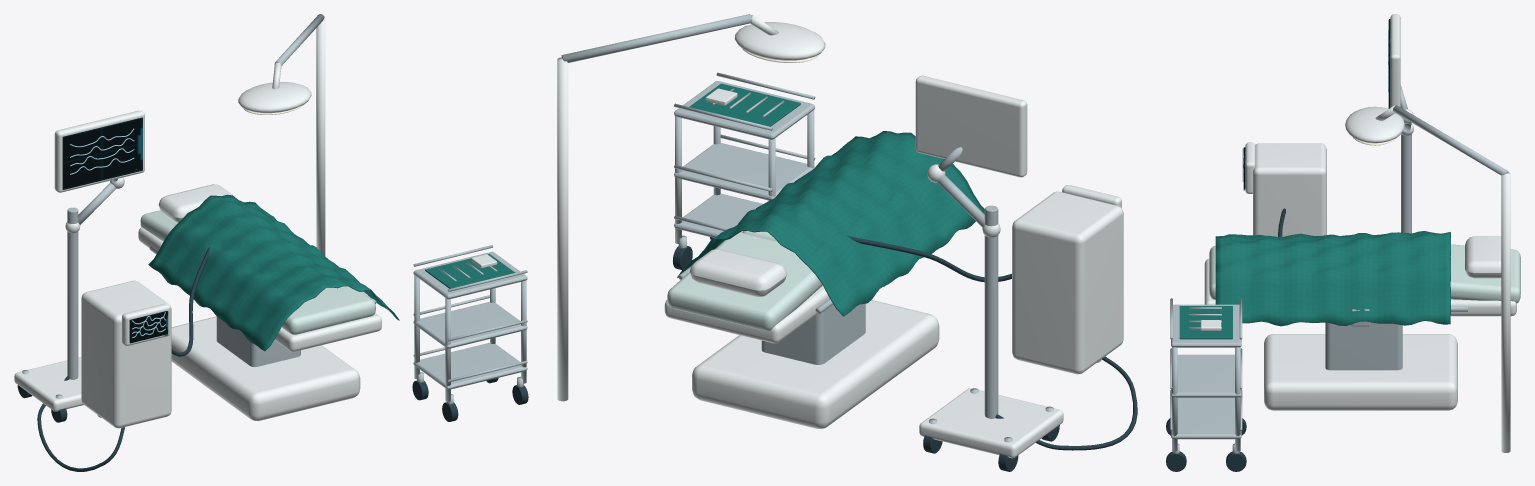
File: care.glb
3 views of the same model, side by side, from view 1: azimuth 30°, elevation 25°; view 2: azimuth 150°, elevation 25°; view 3: azimuth 270°, elevation 25° (orthographic). The views are drawn at different scales.
Parts seen in each view (by area): view 1: care__Powder coat • warm porcelain, care__Matte woven drape, care__Brushed aluminium, care__Diagnostic glass • fictional, care__Linen upholstery, care__Rubber and screen bezel, care__Pale blue polymer; view 2: care__Powder coat • warm porcelain, care__Matte woven drape, care__Brushed aluminium, care__Linen upholstery, care__Rubber and screen bezel; view 3: care__Powder coat • warm porcelain, care__Matte woven drape, care__Brushed aluminium, care__Linen upholstery, care__Rubber and screen bezel, care__Diagnostic glass • fictional.
Part boxes in pixels (box(x1,y1,x2,y2)): care__Powder coat • warm porcelain: box(14, 16, 497, 428); care__Matte woven drape: box(135, 169, 515, 351); care__Brushed aluminium: box(22, 14, 527, 404); care__Diagnostic glass • fictional: box(62, 117, 168, 343); care__Linen upholstery: box(140, 210, 375, 334); care__Rubber and screen bezel: box(17, 247, 528, 471); care__Pale blue polymer: box(70, 128, 165, 417); care__Powder coat • warm porcelain: box(557, 15, 1123, 458); care__Matte woven drape: box(677, 83, 984, 316); care__Brushed aluminium: box(561, 14, 1053, 442); care__Linen upholstery: box(667, 230, 822, 330); care__Rubber and screen bezel: box(673, 236, 1137, 471); care__Powder coat • warm porcelain: box(1200, 14, 1516, 452); care__Matte woven drape: box(1179, 189, 1450, 339); care__Brushed aluminium: box(1170, 85, 1508, 453); care__Linen upholstery: box(1209, 244, 1520, 303); care__Rubber and screen bezel: box(1166, 208, 1347, 471); care__Diagnostic glass • fictional: box(1243, 19, 1390, 189).
Bounding box in the file's own units: 2.96 × 2.2 × 2.25.
Materials: 8 (2 with a texture image).
